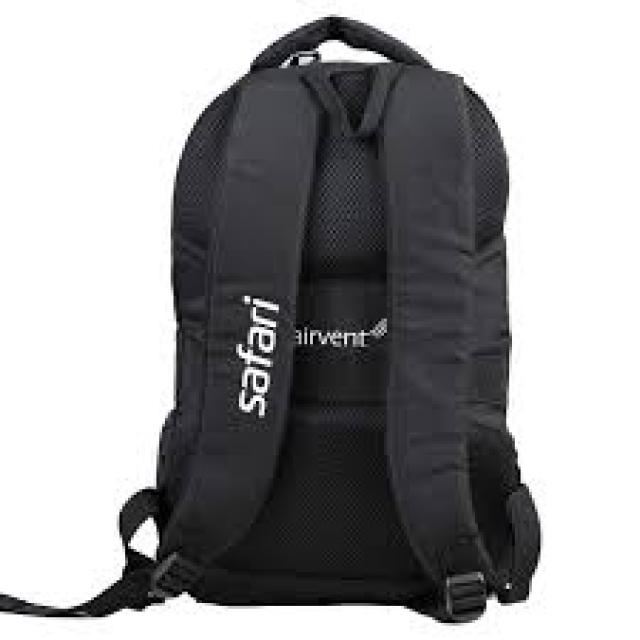backpack: (1, 12, 541, 623)
